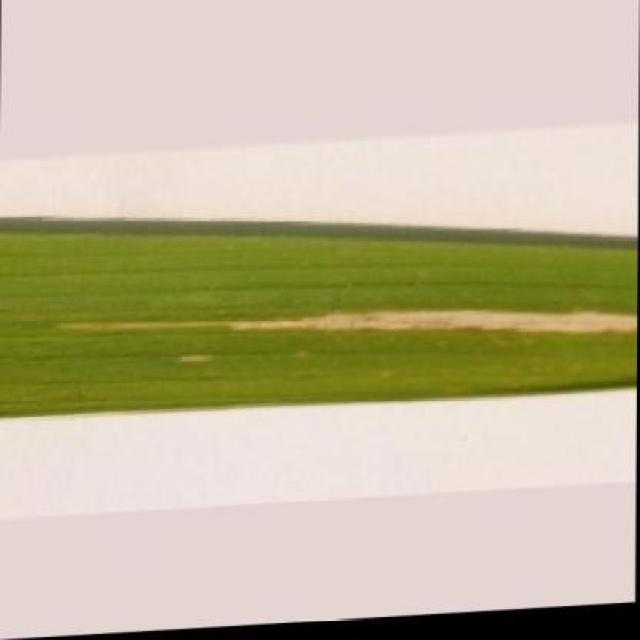Brown_Spot: (0, 195, 638, 430)
